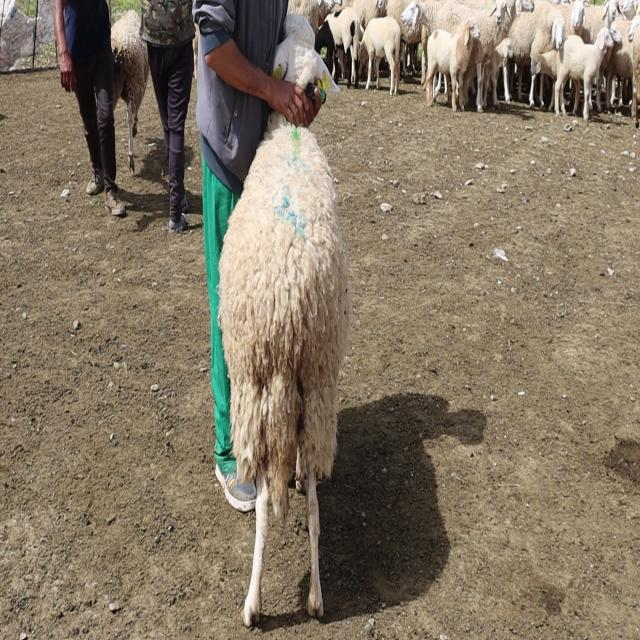Score_2: (218, 124, 351, 626)
